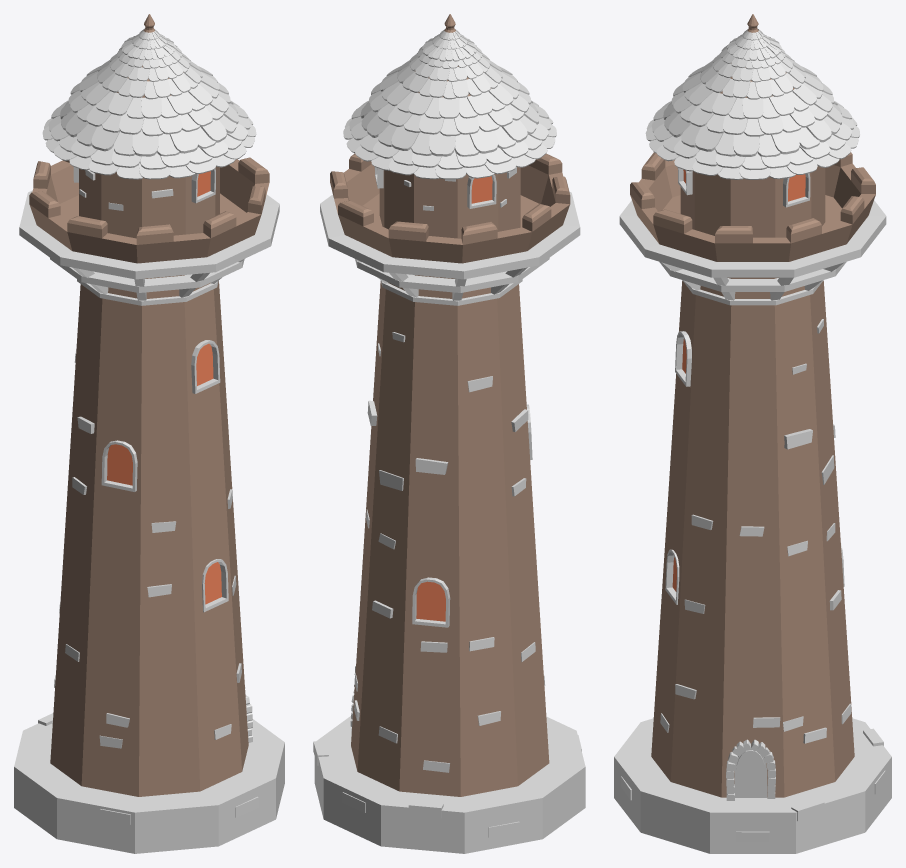
The model's file is Tower_Def_6_Perfect.fbx.
The picture shows the model from 3 angles, left to right: view 1: azimuth 30°, elevation 25°; view 2: azimuth 150°, elevation 25°; view 3: azimuth 270°, elevation 25°; orthographic projection.
Parts seen in each view (by area): view 1: Cylinder.014; view 2: Cylinder.014; view 3: Cylinder.014.
Part boxes in pixels (<box>): Cylinder.014: <box>14,14,284,853</box>; Cylinder.014: <box>313,14,585,853</box>; Cylinder.014: <box>614,14,891,853</box>.
Size of the model in its own units: 299 by 974 by 313.
